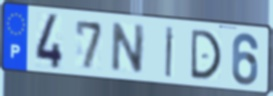4: (33, 12, 65, 72)
6: (230, 30, 260, 87)
7: (74, 19, 105, 70)
D: (189, 28, 224, 81)
I: (164, 24, 176, 80)
N: (109, 20, 148, 75)
